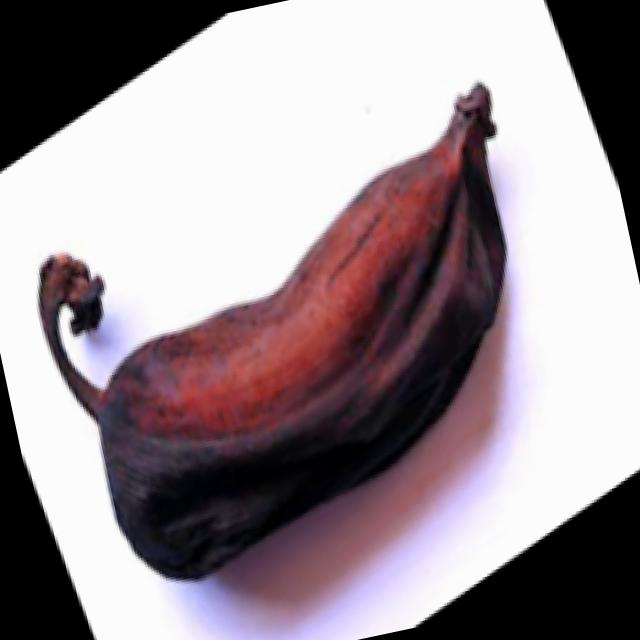Rotten_Banana: (0, 66, 591, 620)
